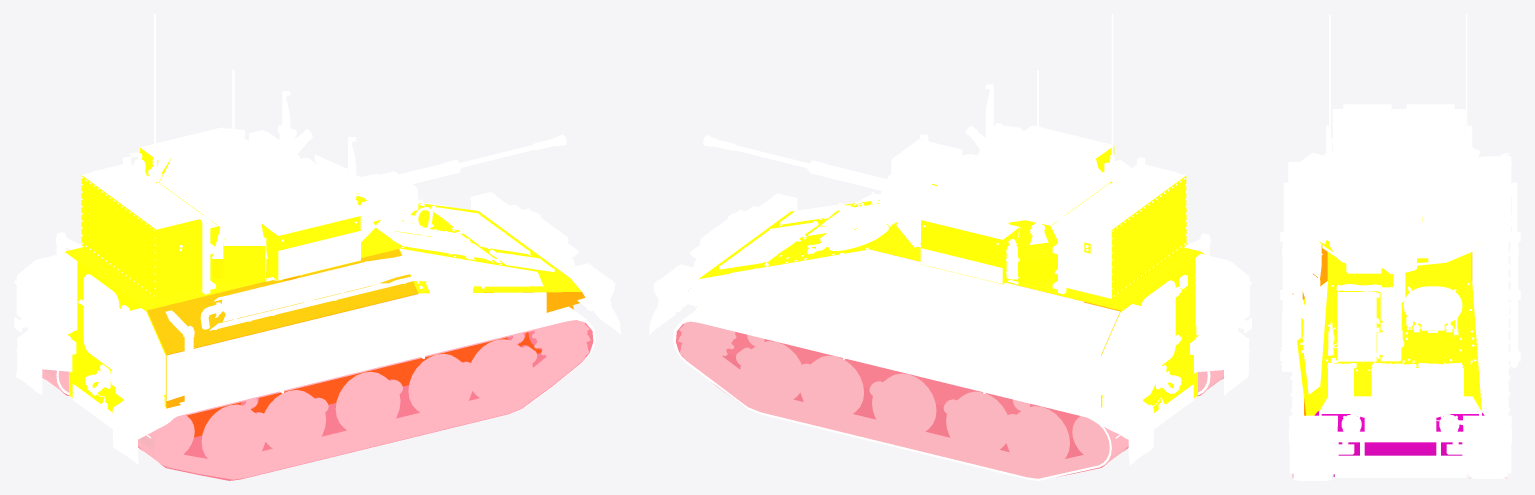
The picture shows the model from 3 angles, left to right: view 1: azimuth 30°, elevation 25°; view 2: azimuth 150°, elevation 25°; view 3: azimuth 270°, elevation 25°; orthographic projection. The views are drawn at different scales.
Parts seen in each view (by area): view 1: 32, FV107_trackright_col_47, 32_6, FV107_turret_col_41, FV107_col, 32_2, 32_4, FV107_col_2, 32_5, FV107_col_3; view 2: 32, FV107_trackleft_col_44, 32_6, FV107_turret_col_41, 32_1, FV107_col_2, 32_5, FV107_col_3, 32_4; view 3: 32, 32_6, FV107_col_3, 32_5, 32_4, FV107_col_2, FV107_col_1, 32_3, FV107_col, 32_2.
Part boxes in pixels (<box>): 32: <box>14,192,620,471</box>; FV107_trackright_col_47: <box>138,320,593,480</box>; 32_6: <box>81,14,397,296</box>; FV107_turret_col_41: <box>81,148,380,299</box>; FV107_col: <box>147,249,585,437</box>; 32_2: <box>138,306,595,479</box>; 32_4: <box>209,198,570,330</box>; FV107_col_2: <box>64,230,398,412</box>; 32_5: <box>314,134,566,224</box>; FV107_col_3: <box>373,203,581,293</box>; 32: <box>649,192,1251,472</box>; FV107_trackleft_col_44: <box>676,322,1128,478</box>; 32_6: <box>878,14,1186,298</box>; FV107_turret_col_41: <box>917,146,1186,299</box>; 32_1: <box>673,307,1128,480</box>; FV107_col_2: <box>870,228,1204,412</box>; 32_5: <box>703,135,975,196</box>; FV107_col_3: <box>699,200,898,278</box>; 32_4: <box>697,198,789,280</box>; 32: <box>1280,182,1520,477</box>; 32_6: <box>1287,14,1511,265</box>; FV107_col_3: <box>1297,280,1481,415</box>; 32_5: <box>1339,215,1439,348</box>; 32_4: <box>1286,200,1481,415</box>; FV107_col_2: <box>1327,252,1471,280</box>; FV107_col_1: <box>1314,411,1484,476</box>; 32_3: <box>1343,417,1457,432</box>; FV107_col: <box>1292,245,1472,415</box>; 32_2: <box>1293,473,1331,480</box>.
Size of the model in its own units: 5.27 by 4.04 by 2.52.
